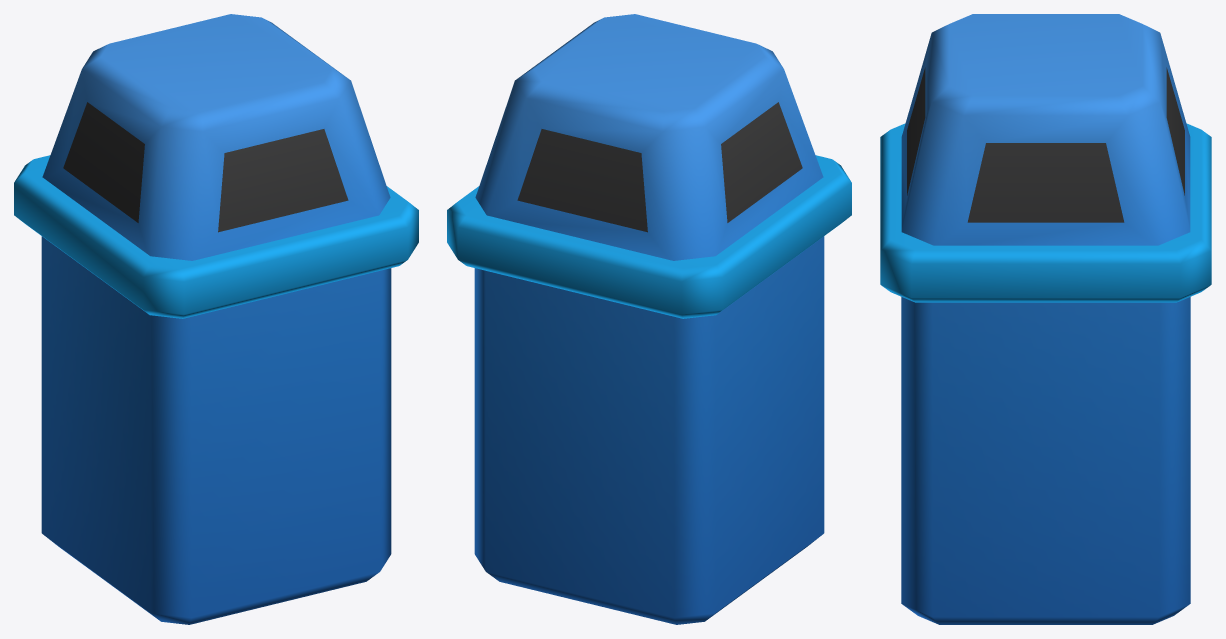
The model's file is Trash_04.glb.
The picture shows the model from 3 angles, left to right: view 1: azimuth 30°, elevation 25°; view 2: azimuth 150°, elevation 25°; view 3: azimuth 270°, elevation 25°; orthographic projection. The views are drawn at different scales.
Visible parts, largest first — view 1: Trash_04; view 2: Trash_04; view 3: Trash_04.
Part boxes in pixels (left/top/right/bottom): Trash_04: left=14, top=14, right=418, bottom=624; Trash_04: left=447, top=14, right=851, bottom=624; Trash_04: left=880, top=14, right=1211, bottom=624.
Bounding box in the file's own units: 0.5099 × 0.8757 × 0.5099.
Materials: 1 (1 with a texture image).
